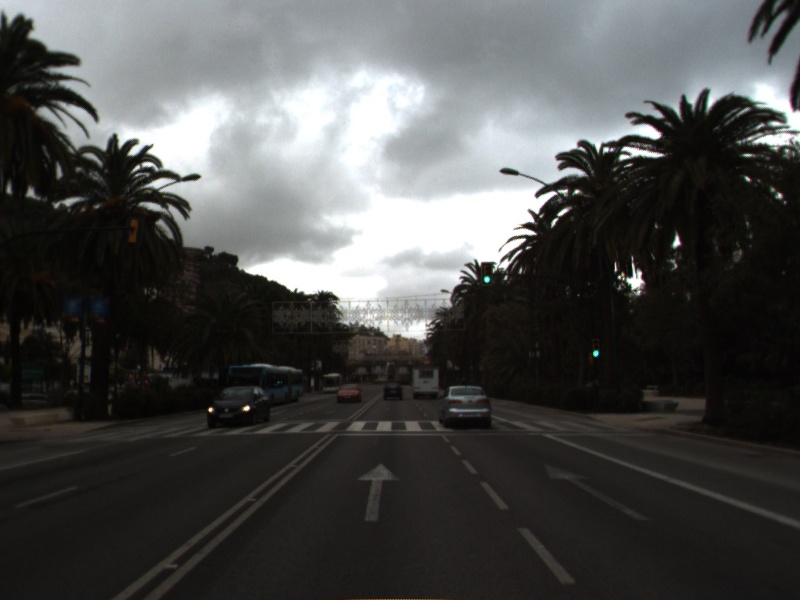STRAIGHT: (541, 460, 655, 524), (354, 461, 404, 524)
